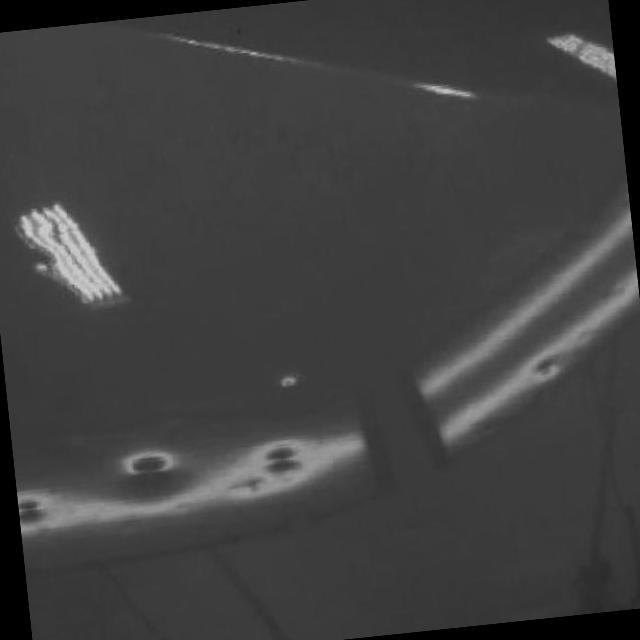dent: (259, 441, 304, 480), (119, 451, 177, 477), (17, 496, 49, 526), (529, 353, 562, 379), (227, 478, 260, 493), (278, 374, 299, 390)
